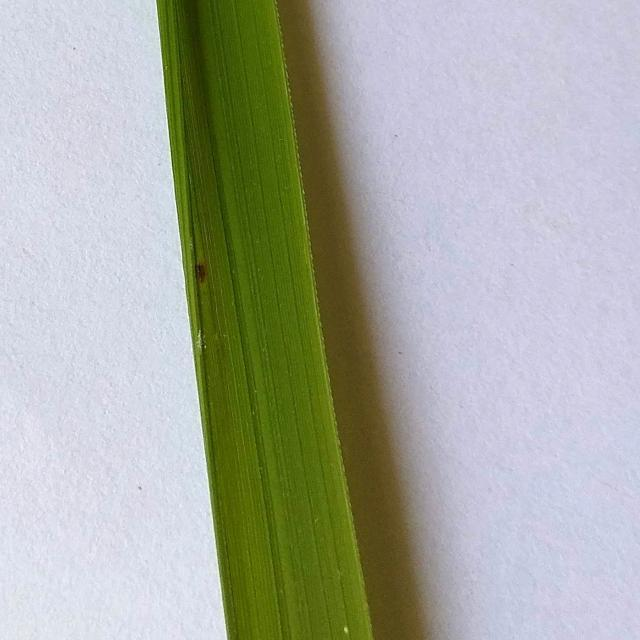brownspots: (190, 254, 216, 292)
